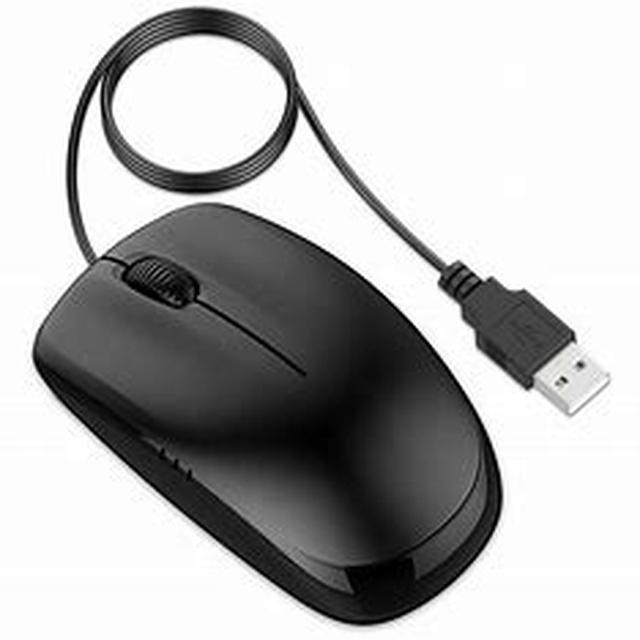mouse: (22, 194, 526, 602)
